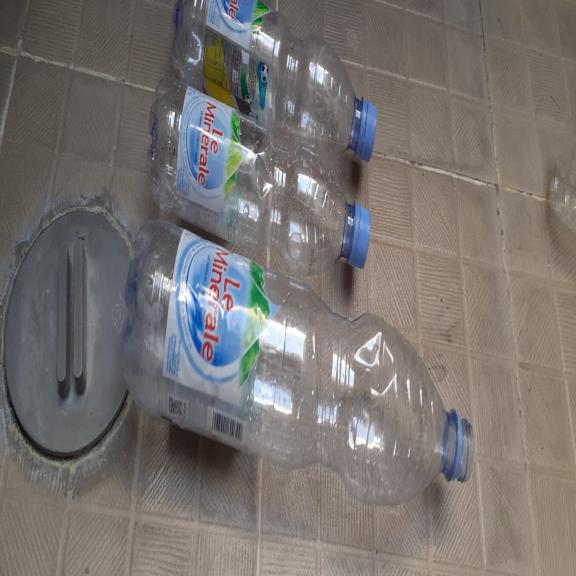Plastik: (123, 214, 476, 492), (147, 75, 370, 276), (168, 0, 376, 158)
